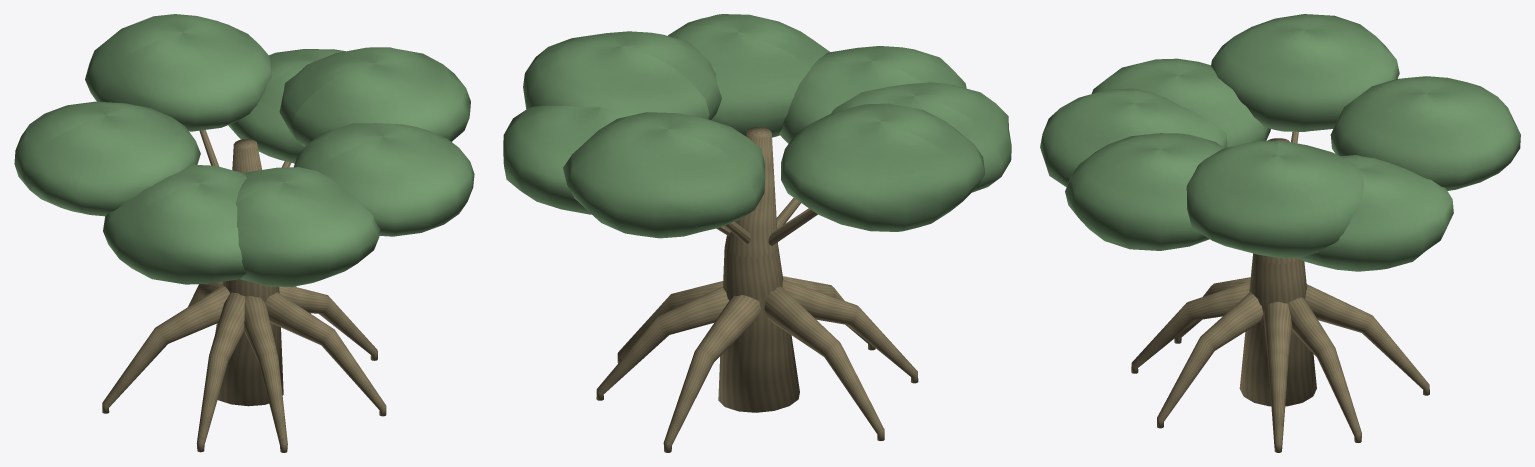
Rendered from red_mangrove_on_stilt_roots_swamp_and_mangrove_22605.glb.
3 views of the same model, side by side, from view 1: azimuth 30°, elevation 25°; view 2: azimuth 150°, elevation 25°; view 3: azimuth 270°, elevation 25° (orthographic). The views are drawn at different scales.
Parts seen in each view (by area): view 1: red-mangrove; view 2: red-mangrove; view 3: red-mangrove.
Boxes of the visible parts, <box> form: red-mangrove: <box>14,14,474,452</box>; red-mangrove: <box>503,14,1011,452</box>; red-mangrove: <box>1040,14,1520,452</box>.
Bounding box in the file's own units: 5.71 × 3.94 × 5.66.
2 materials, 2 textured.
